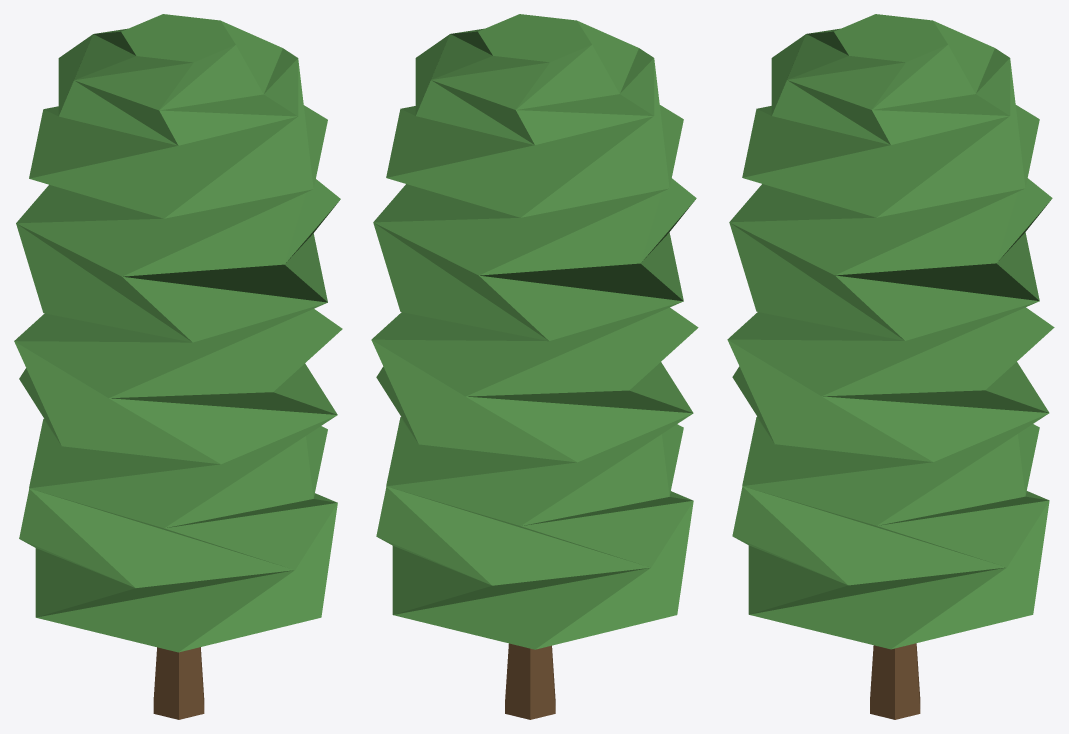
The model's file is tree3d-120.glb.
3 views of the same model, side by side, from view 1: azimuth 30°, elevation 25°; view 2: azimuth 150°, elevation 25°; view 3: azimuth 270°, elevation 25° (orthographic).
Parts seen in each view (by area): view 1: tree3d-120; view 2: tree3d-120; view 3: tree3d-120.
Boxes of the visible parts, x1,y1,x2,y2 form: tree3d-120: (14, 14, 342, 719); tree3d-120: (371, 14, 698, 719); tree3d-120: (727, 14, 1054, 719).
Bounding box in the file's own units: 0.4455 × 1 × 0.4438.
